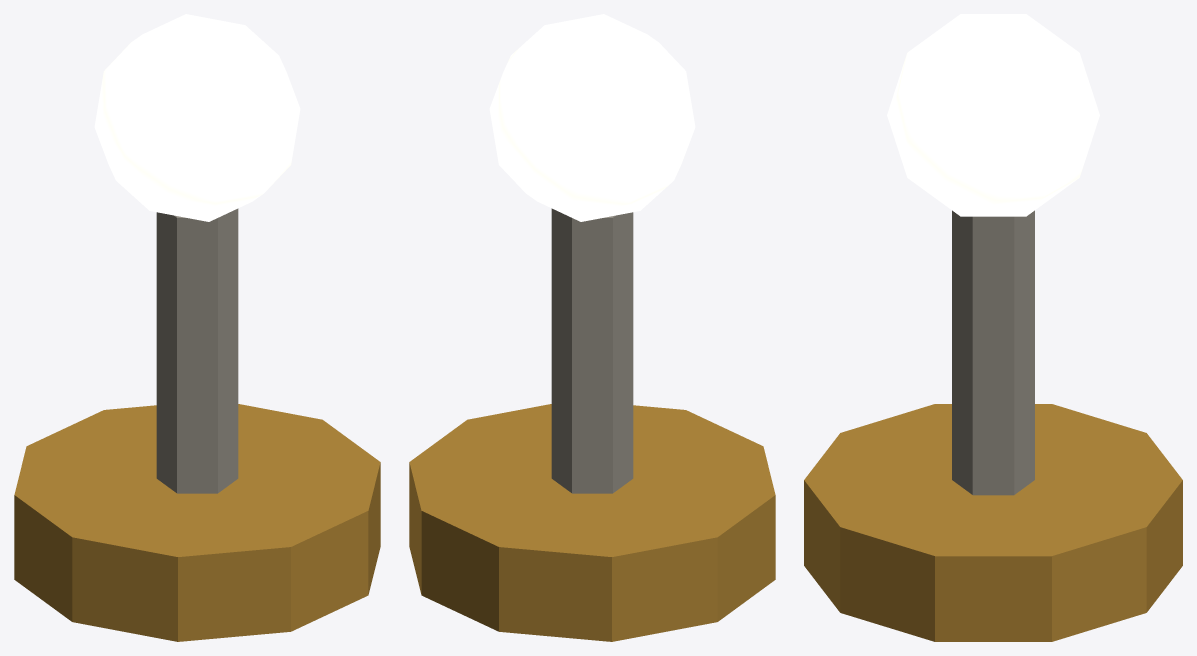
Rendered from runway_light.glb.
3 views of the same model, side by side, from view 1: azimuth 30°, elevation 25°; view 2: azimuth 150°, elevation 25°; view 3: azimuth 270°, elevation 25° (orthographic).
Visible parts, largest first — view 1: runway_light_mesh; view 2: runway_light_mesh; view 3: runway_light_mesh.
Boxes of the visible parts, <box> form: runway_light_mesh: <box>14,14,380,641</box>; runway_light_mesh: <box>409,14,775,641</box>; runway_light_mesh: <box>804,14,1182,641</box>.
Bounding box in the file's own units: 0.3043 × 0.51 × 0.32.
